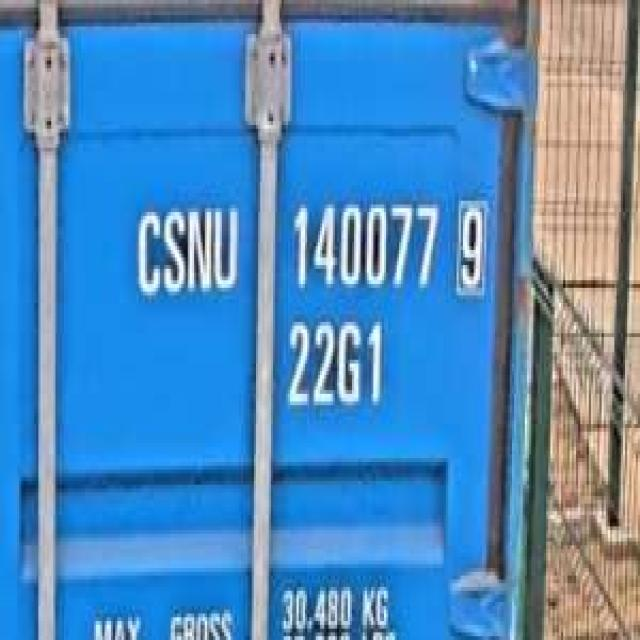dv: (454, 193, 488, 300)
owner: (130, 197, 241, 303)
serial: (284, 190, 442, 296)
size: (282, 310, 388, 412)
